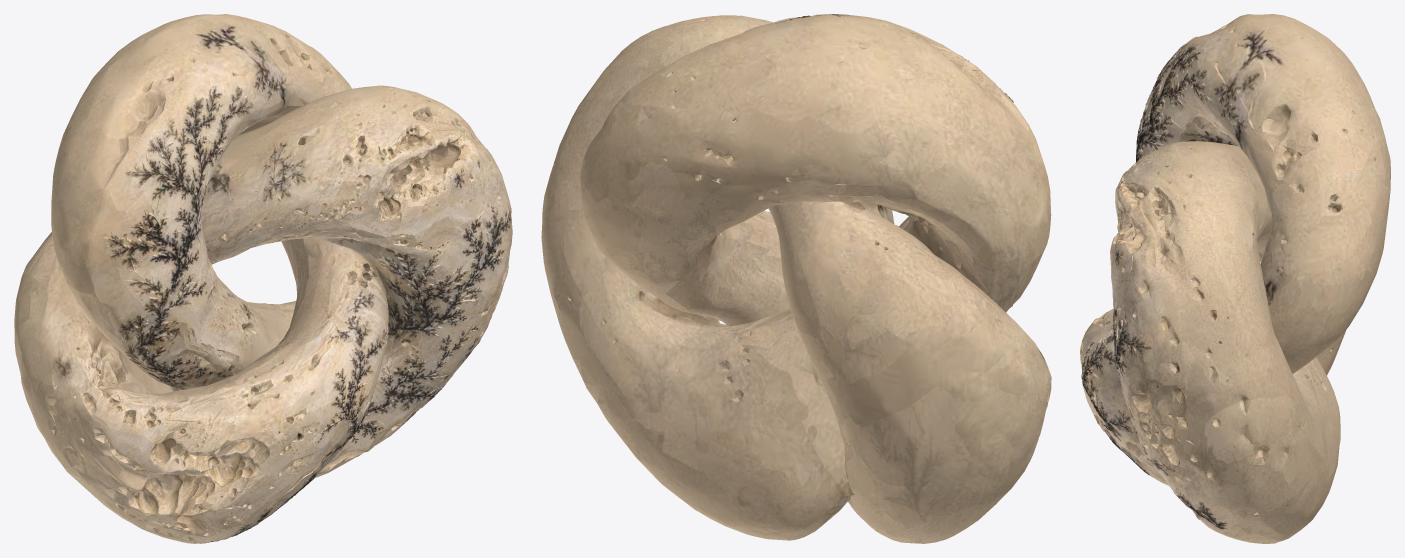
3 views of the same model, side by side, from view 1: azimuth 30°, elevation 25°; view 2: azimuth 150°, elevation 25°; view 3: azimuth 270°, elevation 25° (orthographic). The views are drawn at different scales.
Parts seen in each view (by area): view 1: Mesh_0; view 2: Mesh_0; view 3: Mesh_0.
Boxes of the visible parts, x1,y1,x2,y2 form: Mesh_0: (14,14,512,543); Mesh_0: (541,14,1051,543); Mesh_0: (1080,14,1390,543).
Size of the model in its own units: 1.88 by 1.9 by 1.14.
1 material, 1 textured.
